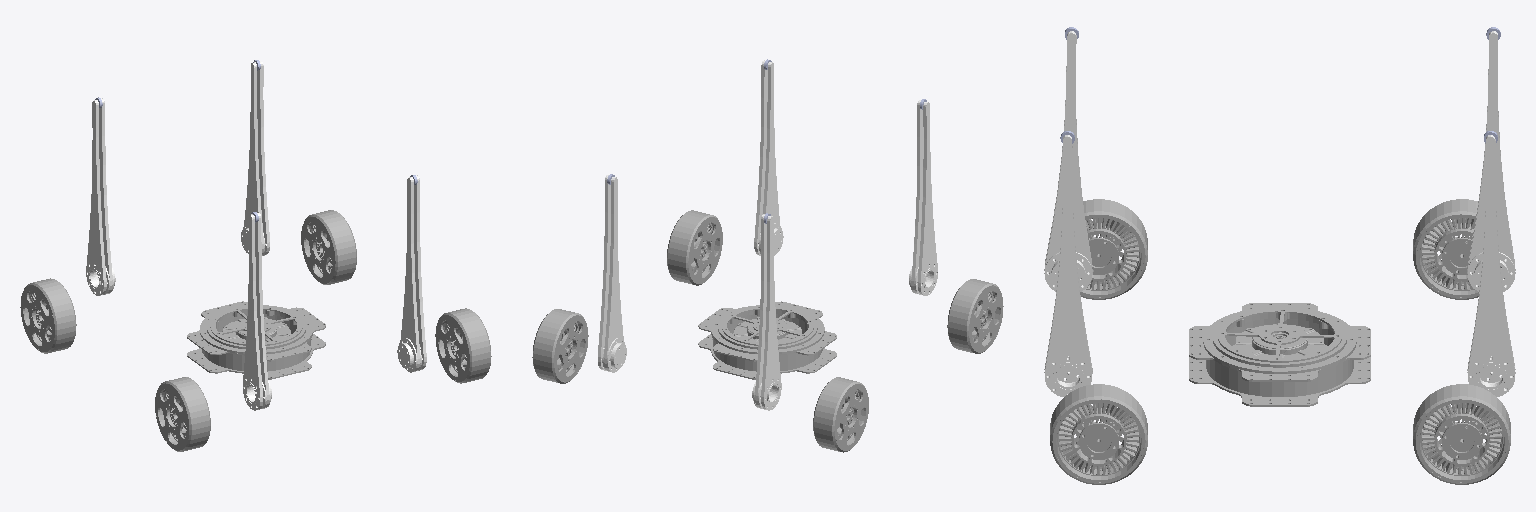
robot.urdf — steering_wheel_chassis:
<?xml version="1.0" encoding="utf-8"?>
<!-- This URDF was automatically created by SolidWorks to URDF Exporter! Originally created by [author] ([email redacted]) 
     Commit Version: 1.6.0-4-g7f85cfe  Build Version: 1.6.7995.38578
     For more information, please see http://wiki.ros.org/sw_urdf_exporter -->
<robot
  name="steering_wheel_chassis">
  <link
    name="base_link">
    <inertial>   
      <origin xyz="0.00379064387309337 -0.0291020965539023 0.253749437559756" rpy="0 0 0" />
      <mass     
        value="14.5660223494718" />
      <inertia
        ixx="0.0750391320286282"
        ixy="1.19976113983499E-05"
        ixz="-2.31872165746839E-05"
        iyy="0.0884241949762676"  
        iyz="0.00374287067138457"
        izz="0.135755295578756" />      
    </inertial>      

  

    <visual>   
      <origin
        xyz="0 0 0"
        rpy="0 0 0" />
      <geometry>
        <mesh
          filename="package://steering_wheel_chassis/meshes/base_link.STL" />
      </geometry>
      <material
        name="">
        <color
          rgba="0.752941176470588 0.752941176470588 0.752941176470588 1" />
      </material>
    </visual>
    <collision>
      <origin
        xyz="0 0 0"
        rpy="0 0 0" />
      <geometry>
        <mesh
          filename="package://steering_wheel_chassis/meshes/base_link.STL" />
      </geometry>
    </collision>
  </link>
  <link
    name="L_F_W_Link">
    <inertial>
      <origin
        xyz="-0.0018748 -1.957E-10 3.0517E-11"
        rpy="0 0 0" />
      <mass
        value="0.20474" />
      <inertia
        ixx="0.00031536"
        ixy="-2.1224E-13"
        ixz="-4.3282E-14"
        iyy="0.00017615"
        iyz="-4.7786E-10"
        izz="0.00017614" />
    </inertial>
    <visual>
      <origin
        xyz="0 0 0"
        rpy="0 0 0" />
      <geometry>
        <mesh
          filename="package://steering_wheel_chassis/meshes/L_F_W_Link.STL" />
      </geometry>
      <material
        name="">
        <color
          rgba="0.75294 0.75294 0.75294 1" />
      </material>
    </visual>
    <collision>
      <origin
        xyz="0 0 0"
        rpy="0 0 0" />
      <geometry>
        <mesh
          filename="package://steering_wheel_chassis/meshes/L_F_W_Link.STL" />
      </geometry>
    </collision>
  </link>
  <joint
    name="base2L_F_W_Link"
    type="continuous">
    <origin
      xyz="-0.22765 0.1894 0.02964"
      rpy="0 0 0" />
    <parent
      link="base_link" />
    <child
      link="L_F_W_Link" />
    <axis
      xyz="1 0 0" />
  </joint>
  <link
    name="L_B_W_Link">
    <inertial>
      <origin
        xyz="-0.0018748 -1.9128E-10 5.1851E-11"
        rpy="0 0 0" />
      <mass
        value="0.20474" />
      <inertia
        ixx="0.00031536"
        ixy="-2.1571E-13"
        ixz="-1.9731E-14"
        iyy="0.00017615"
        iyz="-6.3302E-10"
        izz="0.00017615" />
    </inertial>
    <visual>
      <origin
        xyz="0 0 0"
        rpy="0 0 0" />
      <geometry>
        <mesh
          filename="package://steering_wheel_chassis/meshes/L_B_W_Link.STL" />
      </geometry>
      <material
        name="">
        <color
          rgba="0.75294 0.75294 0.75294 1" />
      </material>
    </visual>
    <collision>
      <origin
        xyz="0 0 0"
        rpy="0 0 0" />
      <geometry>
        <mesh
          filename="package://steering_wheel_chassis/meshes/L_B_W_Link.STL" />
      </geometry>
    </collision>
  </link>
  <joint
    name="base2L_B_W_Link"
    type="continuous">
    <origin
      xyz="-0.22765 -0.18826 0.02964"
      rpy="0 0 0" />
    <parent
      link="base_link" />
    <child
      link="L_B_W_Link" />
    <axis
      xyz="1 0 0" />
  </joint>
  <link
    name="R_F_W_Link">
    <inertial>
      <origin
        xyz="-0.00187479075409827 -1.95699678684491E-10 3.05170645698016E-11"
        rpy="0 0 0" />
      <mass
        value="0.2047432331618" />
      <inertia
        ixx="0.000315362334766743"
        ixy="-2.12238388591583E-13"
        ixz="-4.32816140724435E-14"
        iyy="0.000176146463533313"
        iyz="-4.77864297967598E-10"
        izz="0.000176144935585536" />
    </inertial>
    <visual>
      <origin
        xyz="0 0 0"
        rpy="0 0 0" />
      <geometry>
        <mesh
          filename="package://steering_wheel_chassis/meshes/R_F_W_Link.STL" />
      </geometry>
      <material
        name="">
        <color
          rgba="0.752941176470588 0.752941176470588 0.752941176470588 1" />
      </material>
    </visual>
    <collision>
      <origin
        xyz="0 0 0"
        rpy="0 0 0" />
      <geometry>
        <mesh
          filename="package://steering_wheel_chassis/meshes/R_F_W_Link.STL" />
      </geometry>
    </collision>
  </link>
  <joint
    name="base2R_F_W_Link"
    type="continuous">
    <origin
      xyz="0.22765 0.1894 0.02964"
      rpy="0 0 0" />
    <parent
      link="base_link" />
    <child
      link="R_F_W_Link" />
    <axis
      xyz="1 0 0" />
  </joint>
  <link
    name="R_B_W_Link">
    <inertial>
      <origin
        xyz="-0.00187479075411312 -1.91278548555829E-10 5.18504891799942E-11"
        rpy="0 0 0" />
      <mass
        value="0.204743233161155" />
      <inertia
        ixx="0.000315362334766726"
        ixy="-2.15706763411743E-13"
        ixz="-1.97307278691685E-14"
        iyy="0.000176146340885705"
        iyz="-6.33017362908801E-10"
        izz="0.000176145058233087" />
    </inertial>
    <visual>
      <origin
        xyz="0 0 0"
        rpy="0 0 0" />
      <geometry>
        <mesh
          filename="package://steering_wheel_chassis/meshes/R_B_W_Link.STL" />
      </geometry>
      <material
        name="">
        <color
          rgba="0.752941176470588 0.752941176470588 0.752941176470588 1" />
      </material>
    </visual>
    <collision>
      <origin
        xyz="0 0 0"
        rpy="0 0 0" />
      <geometry>
        <mesh
          filename="package://steering_wheel_chassis/meshes/R_B_W_Link.STL" />
      </geometry>
    </collision>
  </link>
  <joint
    name="base2R_B_W_Link"
    type="continuous">
    <origin
      xyz="0.22765 -0.18826 0.02964"
      rpy="0 0 0" />
    <parent
      link="base_link" />
    <child
      link="R_B_W_Link" />
    <axis
      xyz="1 0 0" />
  </joint>
  <link
    name="L_F_S_Link">
    <inertial>
      <origin
        xyz="0.00104361634505801 -0.00037354079513599 -0.0552952177436176"
        rpy="0 0 0" />
      <mass
        value="0.0964448622609274" />
      <inertia
        ixx="0.000364314510716357"
        ixy="4.01641789486163E-20"
        ixz="6.81696995769619E-19"
        iyy="0.000353889855493755"
        iyz="-2.31632799532792E-06"
        izz="1.1019632250929E-05" />
    </inertial>
    <visual>
      <origin
        xyz="0 0 0"
        rpy="0 0 0" />
      <geometry>
        <mesh
          filename="package://steering_wheel_chassis/meshes/L_F_S_Link.STL" />
      </geometry>
      <material
        name="">
        <color
          rgba="1 1 1 1" />
      </material>
    </visual>
    <collision>
      <origin
        xyz="0 0 0"
        rpy="0 0 0" />
      <geometry>
        <mesh
          filename="package://steering_wheel_chassis/meshes/L_F_S_Link.STL" />
      </geometry>
    </collision>
  </link>
  <joint
    name="base2L_F_S_Link"
    type="continuous">
    <origin
      xyz="-0.1276 0.22 0.0535"
      rpy="3.14 0 0" />
    <parent
      link="base_link" />
    <child
      link="L_F_S_Link" />
    <axis
      xyz="-1 0 0" />
  </joint>

<!-- <joint name="base2L_F_S_Link" type="fixed">
    <parent link="base_link"/>
    <child link="L_F_S_Link"/>
    <origin xyz="-0.1276 0.22 0.0535" rpy="3.14 0 0"/>
</joint> -->

  <link
    name="L_F_sW_Link">
    <inertial>
      <origin
        xyz="-8.60422844084496E-16 -2.77555756156289E-17 0"
        rpy="0 0 0" />
      <mass
        value="0.000678584013175396" />
      <inertia
        ixx="1.98485823853803E-08"
        ixy="-6.14085318538162E-24"
        ixz="1.3397581788759E-23"
        iyy="1.0829069876924E-08"
        iyz="1.31466720117247E-25"
        izz="1.0829069876924E-08" />
    </inertial>
    <visual>
      <origin
        xyz="0 0 0"
        rpy="0 0 0" />
      <geometry>
        <mesh
          filename="package://steering_wheel_chassis/meshes/L_F_sW_Link.STL" />
      </geometry>
      <material
        name="">
        <color
          rgba="0.792156862745098 0.819607843137255 0.933333333333333 1" />
      </material>
    </visual>
    <collision>
      <origin
        xyz="0 0 0"
        rpy="0 0 0" />
      <geometry>
        <mesh
          filename="package://steering_wheel_chassis/meshes/L_F_sW_Link.STL" />
      </geometry>
    </collision>
  </link>
  <joint
    name="base3L_F_sW_Link"
    type="continuous">
    <origin
      xyz="0 -0.00182391384976394 -0.26999383944503"
      rpy="0 0 0" />
    <parent
      link="L_F_S_Link" />
    <child
      link="L_F_sW_Link" />
    <axis
      xyz="-1 0 0" />
  </joint>
  <link
    name="L_B_S_Link">
    <inertial>
      <origin
        xyz="0.00104361634505815 -0.000610645150039724 -0.0552931076223831"
        rpy="0 0 0" />
      <mass
        value="0.096444862260927" />
      <inertia
        ixx="0.000364314510716517"
        ixy="4.12520596189392E-20"
        ixz="3.43652137954245E-19"
        iyy="0.000353863686252314"
        iyz="-3.78646856691212E-06"
        izz="1.10458014925037E-05" />
    </inertial>
    <visual>
      <origin
        xyz="0 0 0"
        rpy="0 0 0" />
      <geometry>
        <mesh
          filename="package://steering_wheel_chassis/meshes/L_B_S_Link.STL" />
      </geometry>
      <material
        name="">
        <color
          rgba="1 1 1 1" />
      </material>
    </visual>
    <collision>
      <origin
        xyz="0 0 0"
        rpy="0 0 0" />
      <geometry>
        <mesh
          filename="package://steering_wheel_chassis/meshes/L_B_S_Link.STL" />
      </geometry>
    </collision>
  </link>
  <joint
    name="base2L_B_S_Link"
    type="continuous">
    <origin
      xyz="-0.1276 -0.22 0.0535"
      rpy="3.14 0 0" />
    <parent
      link="base_link" />
    <child
      link="L_B_S_Link" />
    <axis
      xyz="-1 0 0" />
  </joint>

<!-- <joint name="base2L_B_S_Link" type="fixed">
    <parent link="base_link"/>
    <child link="L_B_S_Link"/>
    <origin xyz="-0.1276 -0.22 0.0535" rpy="3.14 0 0"/>
</joint> -->

  <link
    name="L_B_sW_Link">
    <inertial>
      <origin
        xyz="-8.32667268468867E-16 -2.77555756156289E-17 2.77555756156289E-17"
        rpy="0 0 0" />
      <mass
        value="0.000678584013175396" />
      <inertia
        ixx="1.98485823853803E-08"
        ixy="-5.17475777298972E-26"
        ixz="-1.04096471623317E-25"
        iyy="1.0829069876924E-08"
        iyz="-2.9720997247362E-25"
        izz="1.0829069876924E-08" />
    </inertial>
    <visual>
      <origin
        xyz="0 0 0"
        rpy="0 0 0" />
      <geometry>
        <mesh
          filename="package://steering_wheel_chassis/meshes/L_B_sW_Link.STL" />
      </geometry>
      <material
        name="">
        <color
          rgba="0.792156862745098 0.819607843137255 0.933333333333333 1" />
      </material>
    </visual>
    <collision>
      <origin
        xyz="0 0 0"
        rpy="0 0 0" />
      <geometry>
        <mesh
          filename="package://steering_wheel_chassis/meshes/L_B_sW_Link.STL" />
      </geometry>
    </collision>
  </link>
  <joint
    name="base3L_B_sW_Link"
    type="continuous">
    <origin
      xyz="0 -0.00298163991979752 -0.269983536208023"
      rpy="0 0 0" />
    <parent
      link="L_B_S_Link" />
    <child
      link="L_B_sW_Link" />
    <axis
      xyz="-1 0 0" />
  </joint>
  <link
    name="R_F_S_Link">
    <inertial>
      <origin
        xyz="-0.00104361634505881 0.000242848153632458 -0.0552959461698061"
        rpy="0 0 0" />
      <mass
        value="0.0964448622609276" />
      <inertia
        ixx="0.000364314510716486"
        ixy="-1.74826101896979E-21"
        ixz="-1.62601093484205E-19"
        iyy="0.000353898889500792"
        iyz="1.50592222981448E-06"
        izz="1.10105982439404E-05" />
    </inertial>
    <visual>
      <origin
        xyz="0 0 0"
        rpy="0 0 0" />
      <geometry>
        <mesh
          filename="package://steering_wheel_chassis/meshes/R_F_S_Link.STL" />
      </geometry>
      <material
        name="">
        <color
          rgba="1 1 1 1" />
      </material>
    </visual>
    <collision>
      <origin
        xyz="0 0 0"
        rpy="0 0 0" />
      <geometry>
        <mesh
          filename="package://steering_wheel_chassis/meshes/R_F_S_Link.STL" />
      </geometry>
    </collision>
  </link>
  <joint
    name="base2R_F_S_Link"
    type="continuous">
    <origin
      xyz="0.1276 0.22 0.0535"
      rpy="3.14 0 0" />
    <parent
      link="base_link" />
    <child
      link="R_F_S_Link" />
    <axis
      xyz="-1 0 0" />
  </joint>

<!-- <joint name="base2R_F_S_Link" type="fixed">
    <parent link="base_link"/>
    <child link="R_F_S_Link"/>
    <origin xyz="0.1276 0.22 0.0535" rpy="3.14 0 0"/>
</joint> -->

  <link
    name="R_F_sW_Link">
    <inertial>
      <origin
        xyz="8.60422844084496E-16 -2.77555756156289E-17 5.55111512312578E-17"
        rpy="0 0 0" />
      <mass
        value="0.000678584013175396" />
      <inertia
        ixx="1.98485823853803E-08"
        ixy="-1.40965457779292E-24"
        ixz="5.31375925972952E-25"
        iyy="1.0829069876924E-08"
        iyz="4.49478218391369E-26"
        izz="1.0829069876924E-08" />
    </inertial>
    <visual>
      <origin
        xyz="0 0 0"
        rpy="0 0 0" />
      <geometry>
        <mesh
          filename="package://steering_wheel_chassis/meshes/R_F_sW_Link.STL" />
      </geometry>
      <material
        name="">
        <color
          rgba="0.792156862745098 0.819607843137255 0.933333333333333 1" />
      </material>
    </visual>
    <collision>
      <origin
        xyz="0 0 0"
        rpy="0 0 0" />
      <geometry>
        <mesh
          filename="package://steering_wheel_chassis/meshes/R_F_sW_Link.STL" />
      </geometry>
    </collision>
  </link>
  <joint
    name="base3R_F_sW_Link"
    type="continuous">
    <origin
      xyz="0 0.00118577171908929 -0.269997396182687"
      rpy="0 0 0" />
    <parent
      link="R_F_S_Link" />
    <child
      link="R_F_sW_Link" />
    <axis
      xyz="1 0 0" />
  </joint>
  <link
    name="R_B_S_Link">
    <!-- <inertial>
      <origin
        xyz="0 0 0"
        rpy="0 0 0" />
      <mass
        value="0.096444862260927" />
      <inertia
        ixx="0"
        ixy="0"
        ixz="0"
        iyy="0"
        iyz="0"
        izz="0" />
    </inertial> -->
      <inertial>
    <origin xyz="0 0 0" rpy="0 0 0" />
    <mass value="0.096444862260927" />
    <inertia
      ixx="0.0001"
      ixy="0"
      ixz="0"
      iyy="0.0001"
      iyz="0"
      izz="0.0001" />
  </inertial>
    <visual>
      <origin
        xyz="0 0 0"
        rpy="0 0 0" />
      <geometry>
        <mesh
          filename="package://steering_wheel_chassis/meshes/R_B_S_Link.STL" />
      </geometry>
      <material
        name="">
        <color
          rgba="1 1 1 1" />
      </material>
    </visual>
    <collision>
      <origin
        xyz="0 0 0"
        rpy="0 0 0" />
      <geometry>
        <mesh
          filename="package://steering_wheel_chassis/meshes/R_B_S_Link.STL" />
      </geometry>
    </collision>
  </link>
  <joint
    name="base2R_B_S_Link"
    type="continuous">
    <origin
      xyz="0.1276 -0.220000000000001 0.0534999999999991"
      rpy="3.14 0 0" />
    <parent
      link="base_link" />
    <child
      link="R_B_S_Link" />
    <axis
      xyz="-1 0 0" />
  </joint>

<!-- <joint name="base2R_B_S_Link" type="fixed">
    <parent link="base_link"/>
    <child link="R_B_S_Link"/>
    <origin xyz="0.1276 -0.220000000000001 0.0534999999999991" rpy="3.14 0 0"/>
</joint> -->

  <link
    name="R_B_sW_Link">
    <inertial>
      <origin
        xyz="8.60422844084496E-16 2.77555756156289E-17 2.77555756156289E-17"
        rpy="0 0 0" />
      <mass
        value="0.000678584013175396" />
      <inertia
        ixx="1.98485823853803E-08"
        ixy="-2.40982926167371E-25"
        ixz="5.41825753859784E-25"
        iyy="1.0829069876924E-08"
        iyz="3.37422945978167E-25"
        izz="1.0829069876924E-08" />
    </inertial>
    <visual>
      <origin
        xyz="0 0 0"
        rpy="0 0 0" />
      <geometry>
        <mesh
          filename="package://steering_wheel_chassis/meshes/R_B_sW_Link.STL" />
      </geometry>
      <material
        name="">
        <color
          rgba="0.792156862745098 0.819607843137255 0.933333333333333 1" />
      </material>
    </visual>
    <collision>
      <origin
        xyz="0 0 0"
        rpy="0 0 0" />
      <geometry>
        <mesh
          filename="package://steering_wheel_chassis/meshes/R_B_sW_Link.STL" />
      </geometry>
    </collision>
  </link>
  <joint
    name="base3R_B_sW_Link"
    type="continuous">
    <origin
      xyz="0 0.00130574974081185 -0.26999684260675"
      rpy="0 0 0" />
    <parent
      link="R_B_S_Link" />
    <child
      link="R_B_sW_Link" />
    <axis
      xyz="1 0 0" />
  </joint>







</robot>

--- Render facts (derived) ---
3 views of the same robot in one strip: view 1: azimuth 30°, elevation 25°; view 2: azimuth 150°, elevation 25°; view 3: azimuth 270°, elevation 25° (orthographic).
Model steering_wheel_chassis with 13 links and 12 joints (12 continuous), rooted at base_link, posed all joints at 0.
Links seen in each view (by area): view 1: base_link, R_B_S_Link, L_F_S_Link, L_B_S_Link, R_F_W_Link, L_B_W_Link, L_F_W_Link, R_B_W_Link, R_F_S_Link; view 2: base_link, R_F_S_Link, L_F_S_Link, L_B_S_Link, R_B_W_Link, L_F_W_Link, R_F_W_Link, L_B_W_Link, R_B_S_Link; view 3: base_link, R_B_W_Link, R_F_W_Link, R_B_S_Link, R_F_S_Link, L_B_W_Link, L_F_W_Link, L_B_S_Link, L_F_S_Link.
Boxes of the visible links, x1,y1,x2,y2 form: base_link: (187,301,325,379); R_B_S_Link: (397,175,426,372); L_F_S_Link: (86,98,115,295); L_B_S_Link: (243,213,271,410); R_F_W_Link: (301,210,356,284); L_B_W_Link: (155,377,210,451); L_F_W_Link: (20,278,76,353); R_B_W_Link: (435,308,491,383); R_F_S_Link: (241,61,269,255); base_link: (698,301,836,379); R_F_S_Link: (598,175,626,372); L_F_S_Link: (752,214,781,410); L_B_S_Link: (909,100,937,295); R_B_W_Link: (667,210,722,285); L_F_W_Link: (813,377,868,452); R_F_W_Link: (532,309,588,383); L_B_W_Link: (947,279,1003,353); R_B_S_Link: (754,60,783,255); base_link: (1189,303,1370,406); R_B_W_Link: (1050,384,1147,484); R_F_W_Link: (1413,384,1510,484); R_B_S_Link: (1044,135,1092,396); R_F_S_Link: (1467,135,1515,396); L_B_W_Link: (1077,199,1147,299); L_F_W_Link: (1413,199,1501,299); L_B_S_Link: (1044,31,1092,291); L_F_S_Link: (1467,31,1515,291).
Size in the robot's own frame: 0.4913 by 0.49 by 0.3523 metres.
13 mesh visuals loaded from 13 distinct referenced files (13 binary STL).